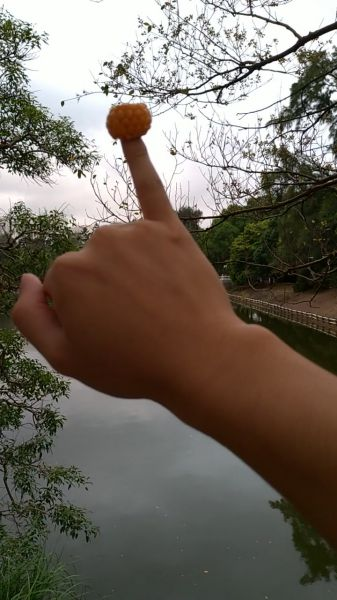eggs: (106, 103, 152, 139)
